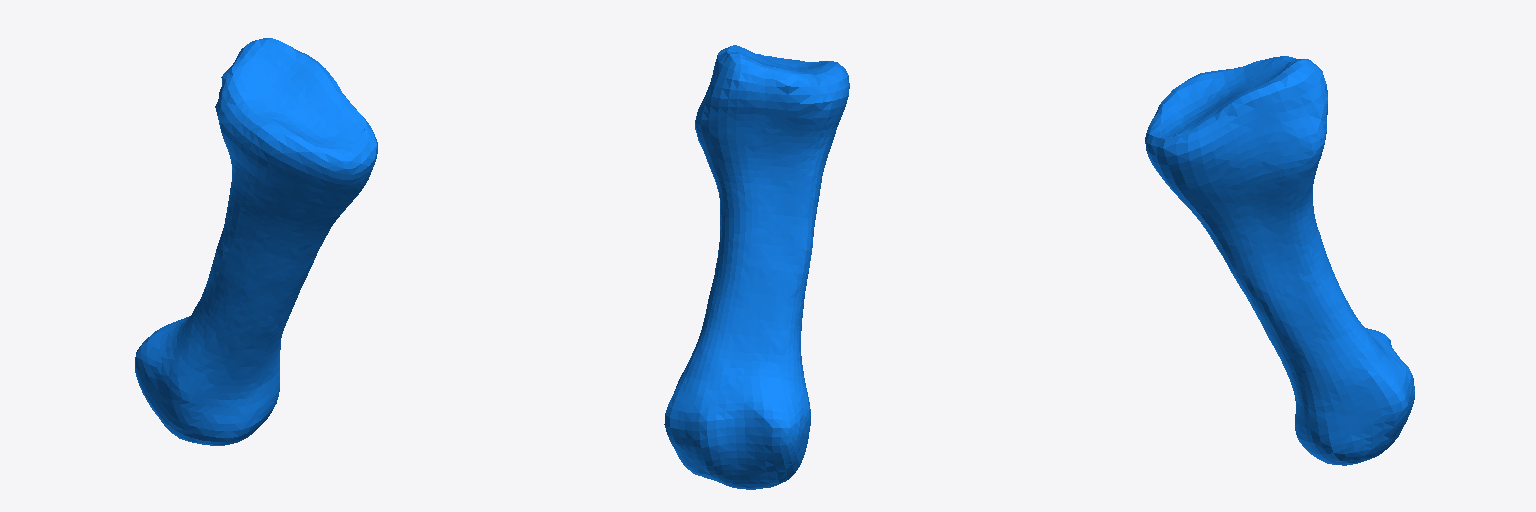
The model's file is Metatarsal_1.obj.
3 renders of one model, left to right at view 1: azimuth 30°, elevation 25°; view 2: azimuth 150°, elevation 25°; view 3: azimuth 270°, elevation 25°, orthographic.
Visible parts, largest first — view 1: Object_0Metatarsal_1; view 2: Object_0Metatarsal_1; view 3: Object_0Metatarsal_1.
Boxes of the visible parts, box(x1,y1,x2,y2) form: Object_0Metatarsal_1: box(135, 38, 377, 445); Object_0Metatarsal_1: box(664, 45, 849, 489); Object_0Metatarsal_1: box(1145, 56, 1414, 465).
Size of the model in its own units: 26.92 by 72.4 by 43.32.